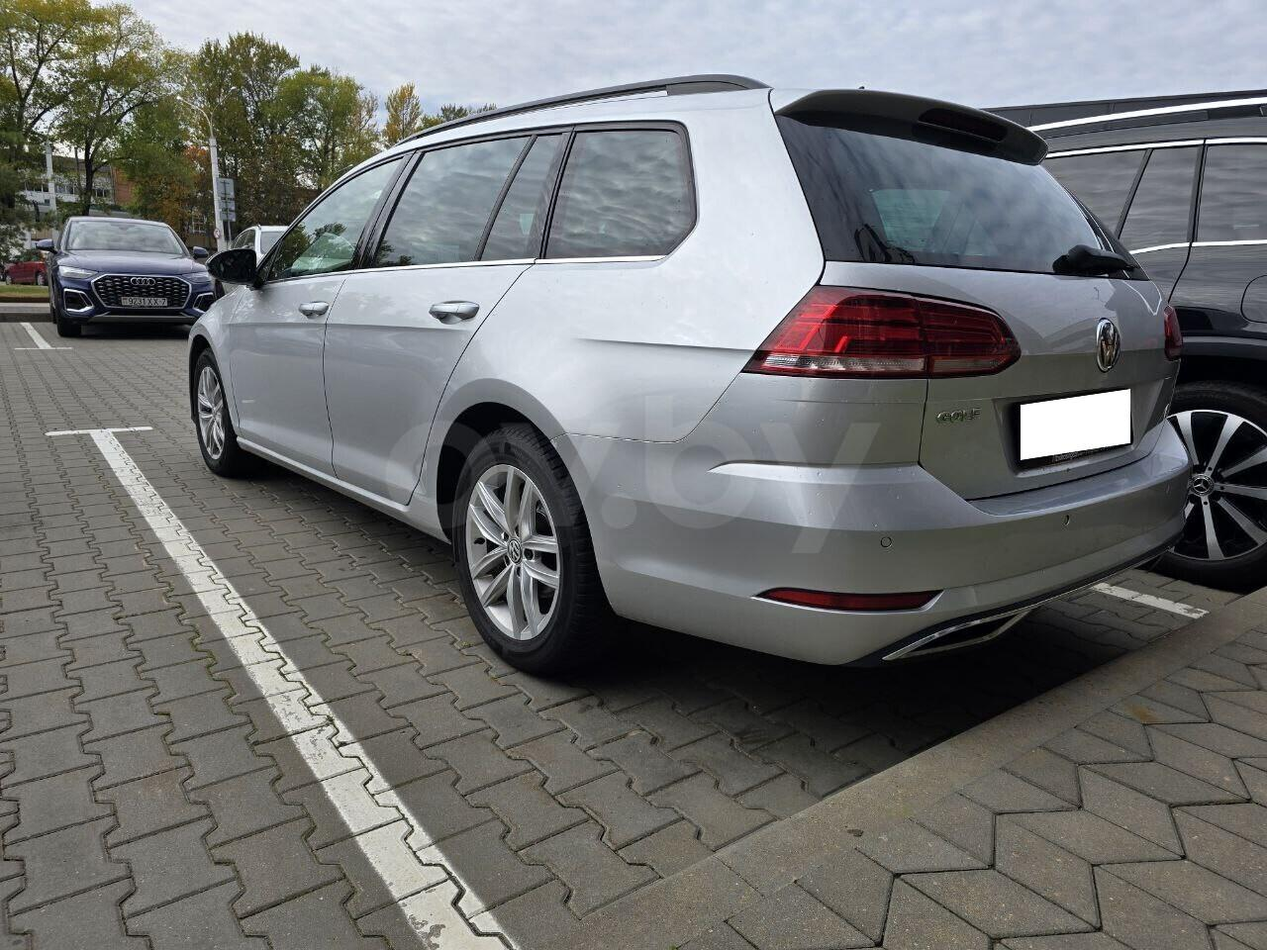Golf_2017-2021: (181, 84, 1197, 683)
